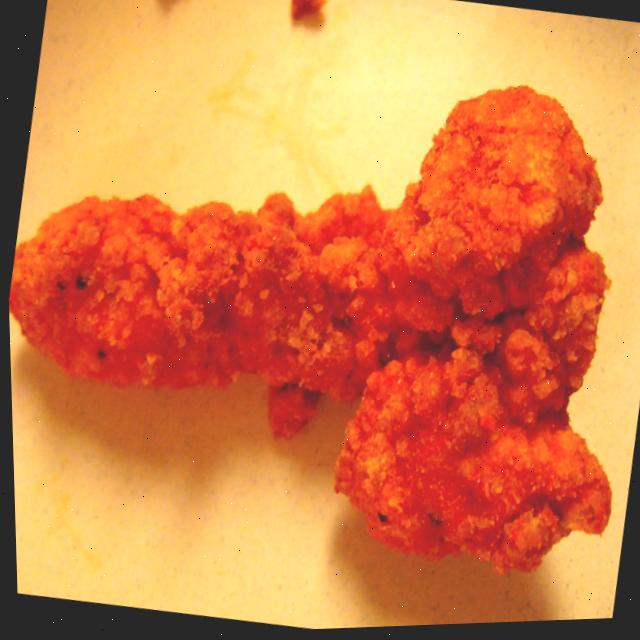鸡肉料理 含炸鸡: (1, 6, 640, 627)
